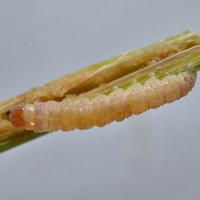insect: (0, 30, 199, 150)
